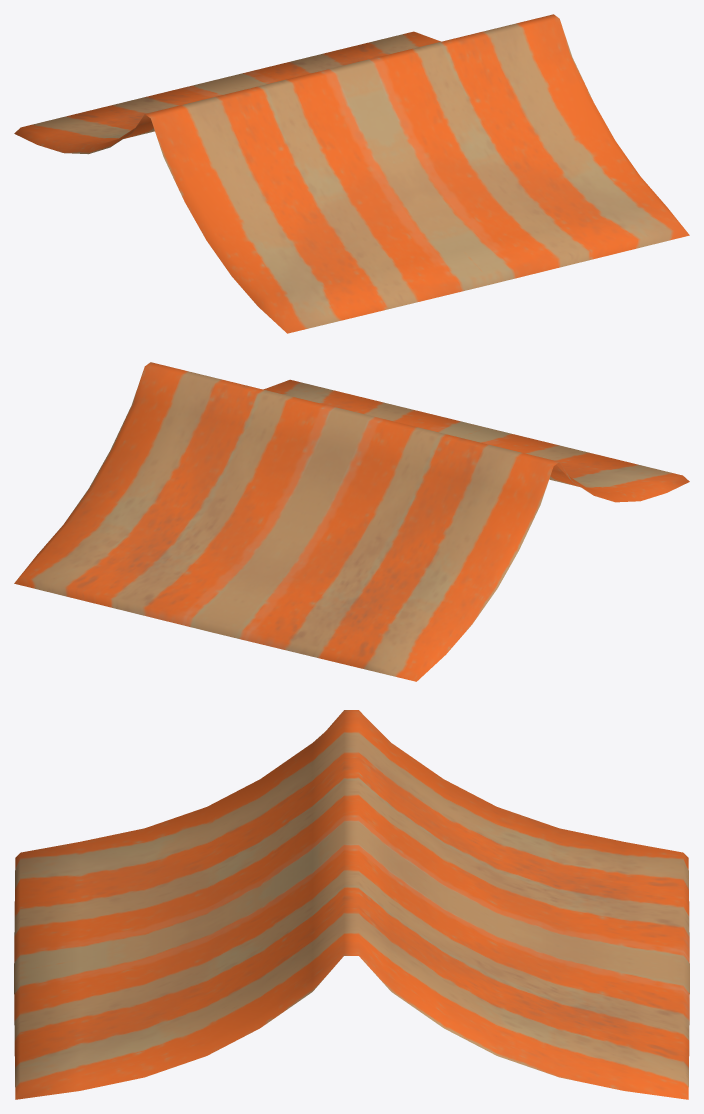
Rendered from Tenda_update.fbx.
3 renders of one model, top to bottom at view 1: azimuth 30°, elevation 25°; view 2: azimuth 150°, elevation 25°; view 3: azimuth 270°, elevation 25°, orthographic. The views are drawn at different scales.
Visible parts, largest first — view 1: Barraca_Tenda; view 2: Barraca_Tenda; view 3: Barraca_Tenda.
Part boxes in pixels (x1=…): Barraca_Tenda: x1=14, y1=14, x2=689, y2=333; Barraca_Tenda: x1=14, y1=362, x2=689, y2=681; Barraca_Tenda: x1=14, y1=710, x2=689, y2=1099.
Size of the model in its own units: 300 by 83.01 by 349.
